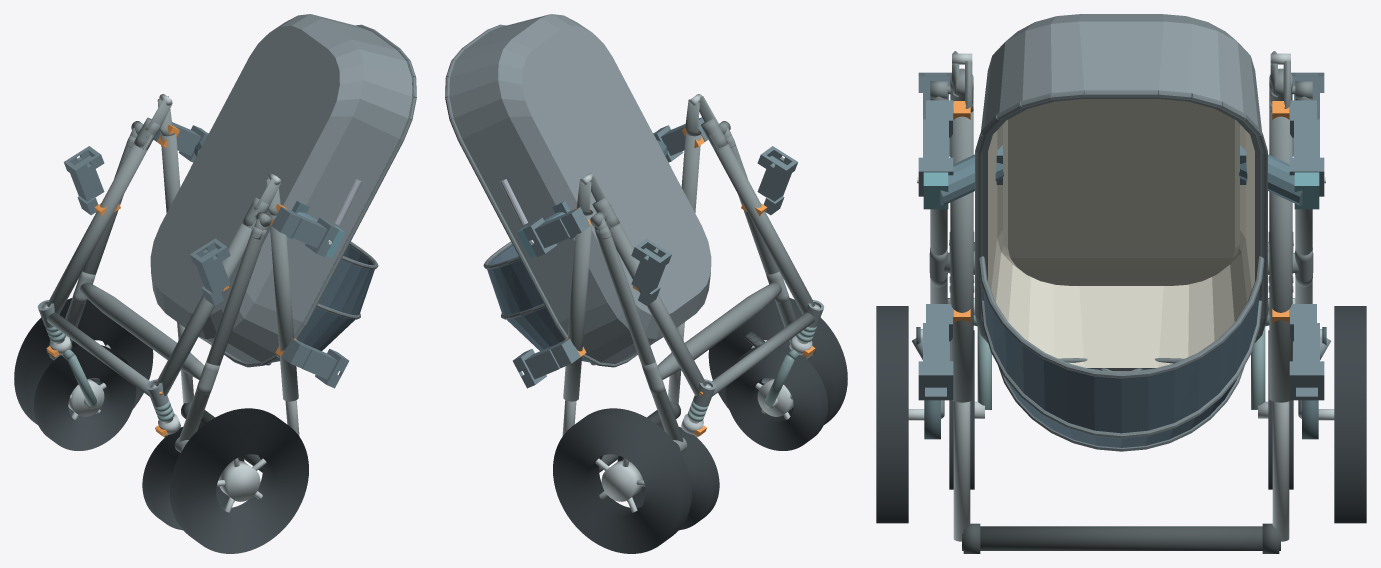
Rendered from S06_w550_state3_wheel_M.glb.
3 views of the same model, side by side, from view 1: azimuth 30°, elevation 25°; view 2: azimuth 150°, elevation 25°; view 3: azimuth 270°, elevation 25° (orthographic). The views are drawn at different scales.
Parts seen in each view (by area): view 1: S06_Cabin, RL_tire.002, FR_tire.002, RR_tire.002, main_lower_1.003, V46_rear_leg_-1.003, main_upper_-1.003, FL_tire.002, V46_rearbar.003, main_lower_-1.003, Universal_Cabin_Receiver_M_-1, Universal_Cabin_Receiver_H_-1 (+10 smaller); view 2: S06_Cabin, RR_tire.002, FL_tire.002, RL_tire.002, main_lower_-1.003, V46_rear_leg_1.003, main_upper_1.003, FR_tire.002, V46_rearbar.003, main_lower_1.003, Universal_Cabin_Receiver_M_1, Universal_Cabin_Receiver_H_1 (+10 smaller); view 3: S06_Cabin, RL_tire.002, RR_tire.002, round_handle.002, main_upper_1.003, main_upper_-1.003, S06_Cabin_Mount_M, Universal_Cabin_Receiver_H_1, Universal_Cabin_Receiver_H_-1, handle_slider_1.002, handle_slider_-1.002, Universal_Cabin_Receiver_M_-1 (+11 smaller).
Part boxes in pixels (x1=…): S06_Cabin: x1=150, y1=14, x2=416, y2=367; RL_tire.002: x1=170, y1=408, x2=308, y2=553; FR_tire.002: x1=34, y1=345, x2=136, y2=450; RR_tire.002: x1=14, y1=298, x2=153, y2=424; main_lower_1.003: x1=47, y1=135, x2=152, y2=314; V46_rear_leg_-1.003: x1=178, y1=226, x2=266, y2=441; main_upper_-1.003: x1=269, y1=213, x2=298, y2=401; FL_tire.002: x1=142, y1=423, x2=244, y2=530; V46_rearbar.003: x1=80, y1=282, x2=204, y2=379; main_lower_-1.003: x1=155, y1=221, x2=255, y2=395; Universal_Cabin_Receiver_M_-1: x1=271, y1=207, x2=339, y2=257; Universal_Cabin_Receiver_H_-1: x1=281, y1=338, x2=348, y2=388; S06_Cabin: x1=445, y1=14, x2=711, y2=367; RR_tire.002: x1=553, y1=408, x2=691, y2=553; FL_tire.002: x1=725, y1=345, x2=827, y2=450; RL_tire.002: x1=708, y1=298, x2=847, y2=424; main_lower_-1.003: x1=709, y1=135, x2=814, y2=314; V46_rear_leg_1.003: x1=595, y1=226, x2=683, y2=441; main_upper_1.003: x1=563, y1=211, x2=592, y2=401; FR_tire.002: x1=617, y1=423, x2=719, y2=530; V46_rearbar.003: x1=657, y1=282, x2=781, y2=379; main_lower_1.003: x1=606, y1=221, x2=706, y2=395; Universal_Cabin_Receiver_M_1: x1=522, y1=207, x2=590, y2=257; Universal_Cabin_Receiver_H_1: x1=513, y1=338, x2=580, y2=388; S06_Cabin: x1=975, y1=14, x2=1267, y2=451; RL_tire.002: x1=876, y1=306, x2=908, y2=523; RR_tire.002: x1=1334, y1=306, x2=1366, y2=523; round_handle.002: x1=962, y1=526, x2=1280, y2=550; main_upper_1.003: x1=1269, y1=111, x2=1292, y2=402; main_upper_-1.003: x1=950, y1=111, x2=973, y2=402; S06_Cabin_Mount_M: x1=917, y1=145, x2=1325, y2=209; Universal_Cabin_Receiver_H_1: x1=1289, y1=304, x2=1324, y2=400; Universal_Cabin_Receiver_H_-1: x1=918, y1=304, x2=953, y2=400; handle_slider_1.002: x1=1272, y1=401, x2=1289, y2=541; handle_slider_-1.002: x1=953, y1=401, x2=970, y2=541; Universal_Cabin_Receiver_M_-1: x1=918, y1=100, x2=953, y2=196.
Size of the model in its own units: 0.6934 by 0.9393 by 0.6771.
